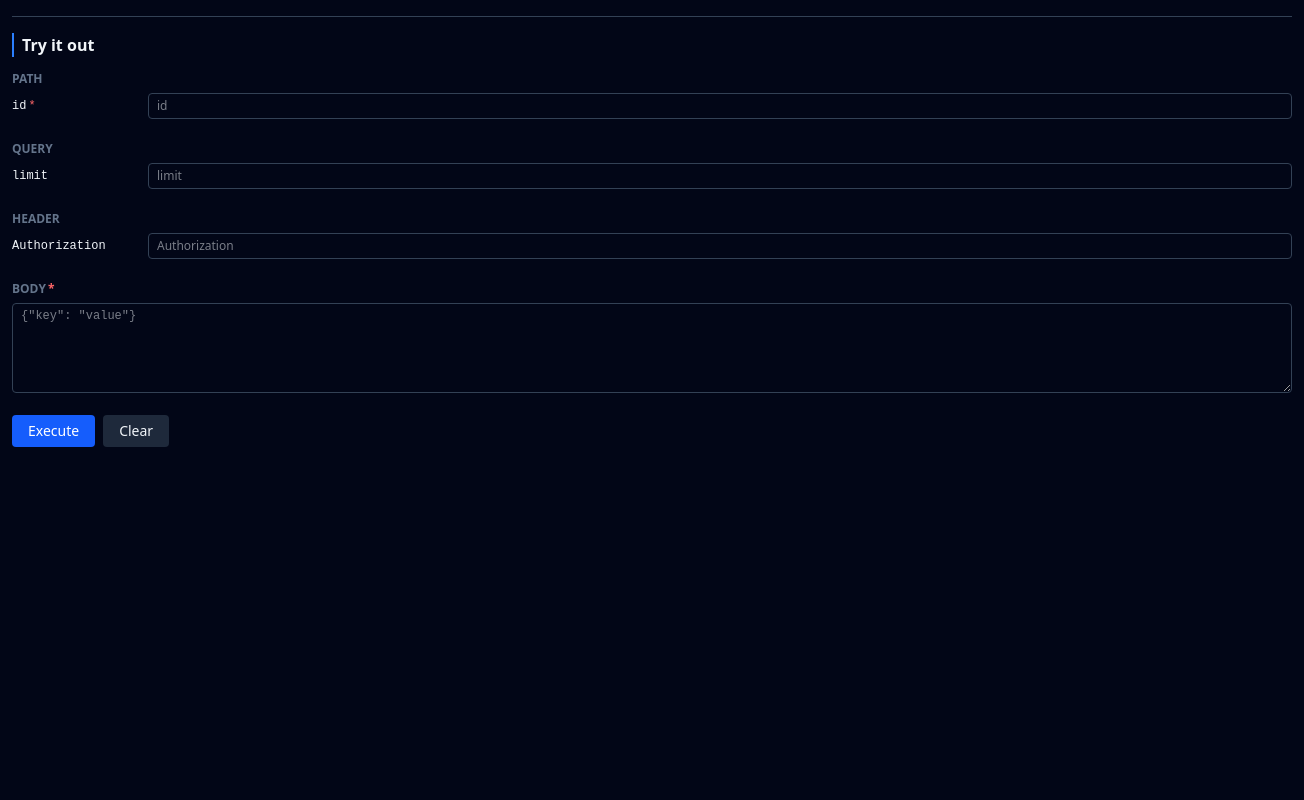
Test case: TryItOut › formats xml response
Click the button "Execute": (54,431) [12,415,95,447]
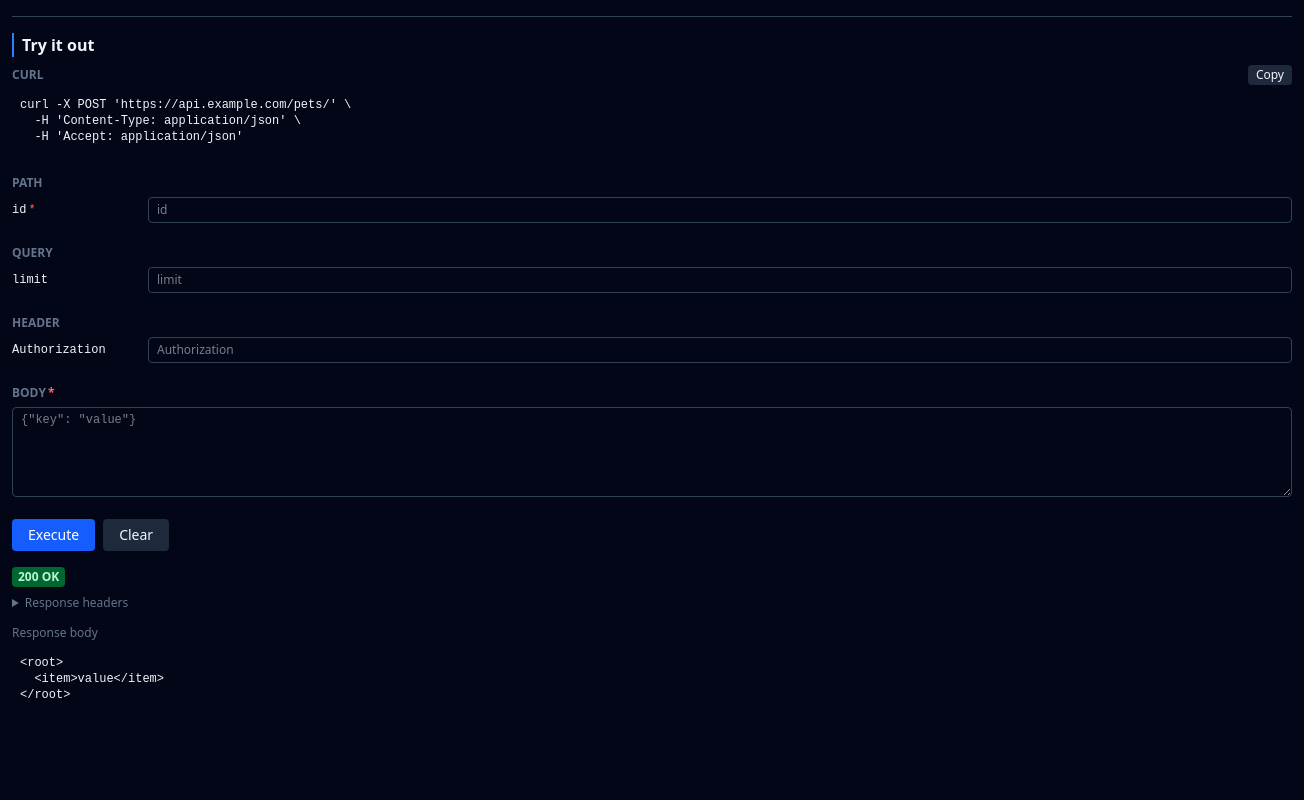
Result: the text "200 OK" is shown at [12,567,65,587]
